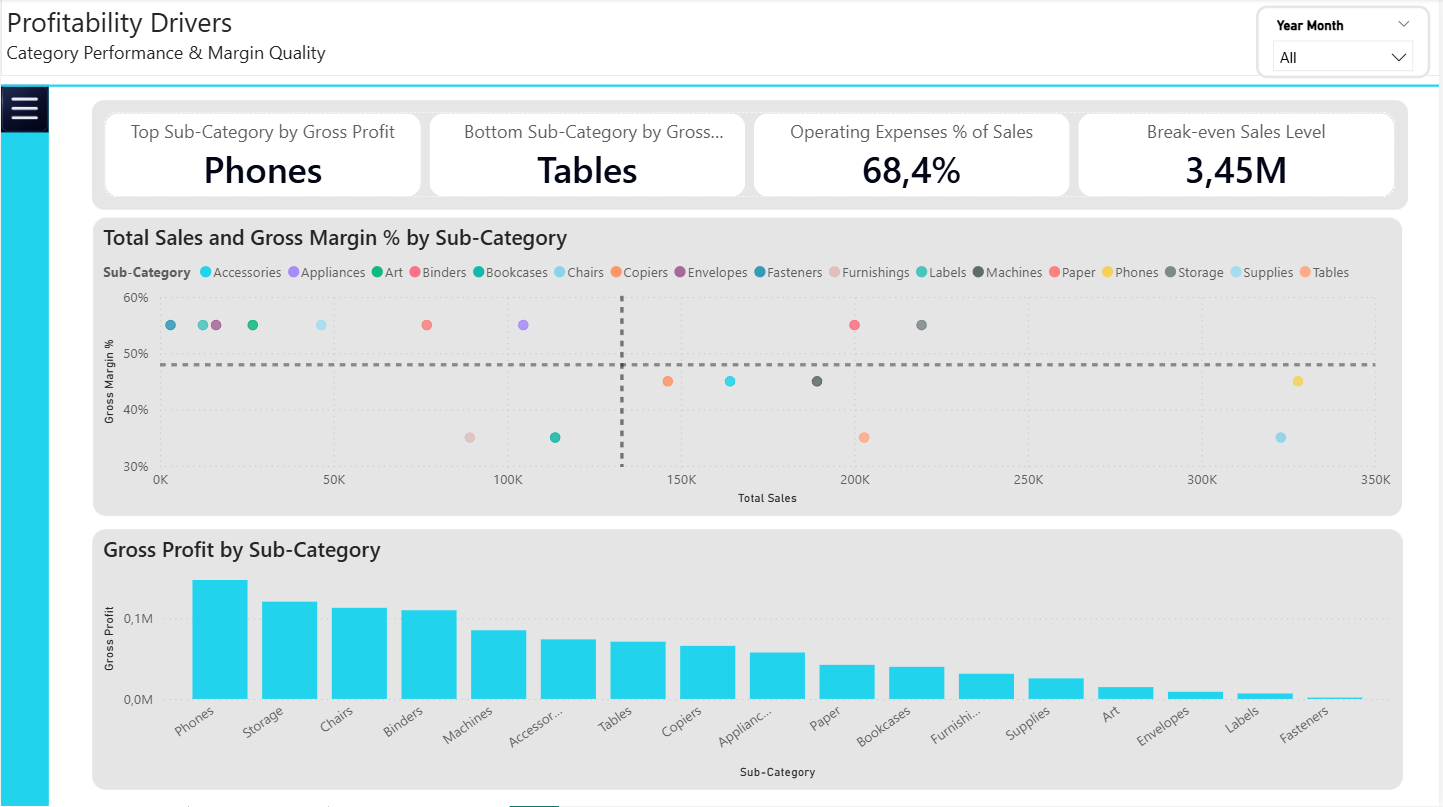

This screenshot's page, from the dashboard's own definition file:
{"tool":"powerbi","page":{"name":"Profit Drivers","canvas":[1280,720],"ordinal":1},"visuals":[{"type":"shape","title":"Small Navigator bar","box":[0,78.2,42.2,641.8],"z":0,"group":"g1"},{"type":"cardVisual","fields":{"Data":["MeasuresTables.Top Category by Gross Profit","MeasuresTables.Bottom Category by Gross Margin %","MeasuresTables.Operating Expenses % of Sales","MeasuresTables.Break-even Sales Level"]},"box":[74.5,84.2,1187.3,110.8],"z":0},{"type":"image","title":"Nav Menu","box":[0,75.8,42.2,45.8],"z":1000,"group":"g1"},{"type":"scatterChart","fields":{"Y":["MeasuresTables.Gross Margin %"],"Series":["train.Sub-Category"],"X":["MeasuresTables.Total Sales"]},"box":[81.6,195.1,1166.9,266.9],"z":1000},{"type":"clusteredColumnChart","fields":{"Y":["MeasuresTables.Gross Profit"],"Category":["train.Sub-Category"]},"box":[81.6,472.6,1166.9,232.3],"z":2000},{"type":"textbox","box":[0,0,1380,69.7],"z":3000},{"type":"slicer","fields":{"Values":["DimDate.Year Month"]},"box":[1118.1,6.2,155.2,64.7],"z":4000},{"type":"group","id":"g1","title":"Closed Menu","box":[0,75.8,42.2,644.2],"z":6000},{"type":"shape","box":[0,71,1380,13.6],"z":7000}]}

Visuals, with their boxes in screenshot pixels (x1, y1, x2, y2), scaled from the page's 1280x720 canvas onto the 1443x807 screenshot:
"Small Navigator bar" shape: Rect(0, 88, 48, 806)
cardVisual - MeasuresTables.Top Category by Gross Profit x MeasuresTables.Bottom Category by Gross Margin %: Rect(84, 94, 1422, 219)
"Nav Menu" image: Rect(0, 85, 48, 136)
scatterChart - MeasuresTables.Gross Margin % x train.Sub-Category: Rect(92, 219, 1407, 518)
clusteredColumnChart - MeasuresTables.Gross Profit x train.Sub-Category: Rect(92, 530, 1407, 790)
textbox: Rect(0, 0, 1442, 78)
slicer - DimDate.Year Month: Rect(1260, 7, 1435, 79)
"Closed Menu" group: Rect(0, 85, 48, 806)
shape: Rect(0, 80, 1442, 95)
